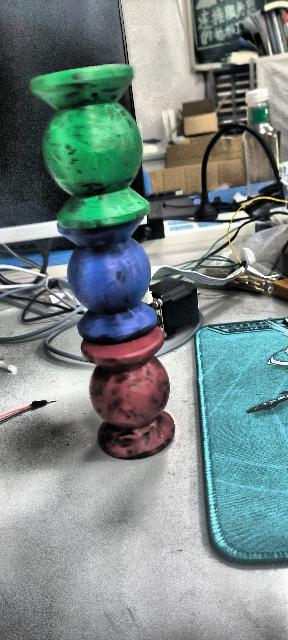blue: (57, 224, 160, 345)
green: (26, 61, 153, 233)
red: (79, 328, 180, 460)
